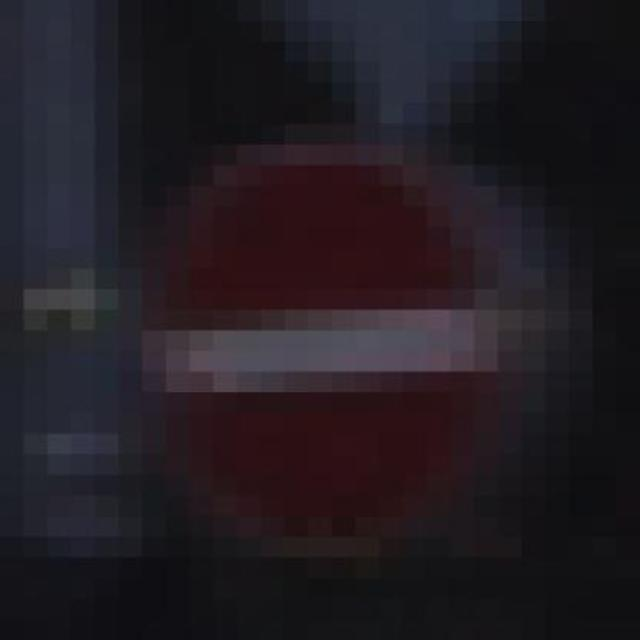B2: (139, 133, 525, 552)
